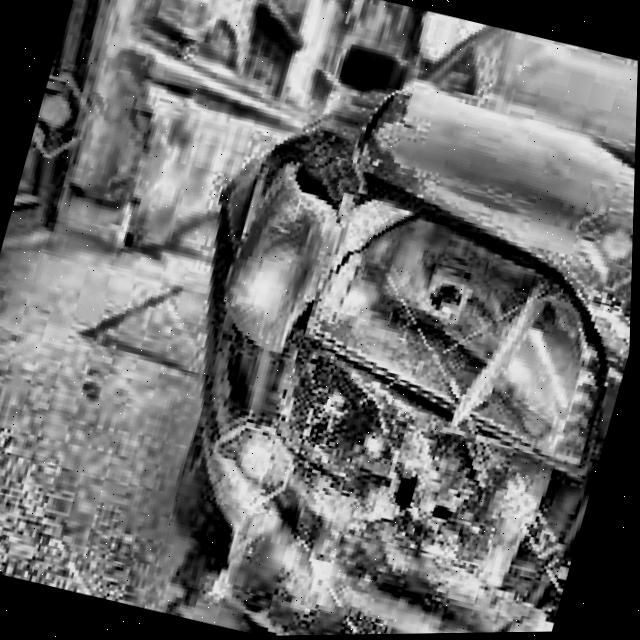head_lamp: (199, 148, 635, 455)
